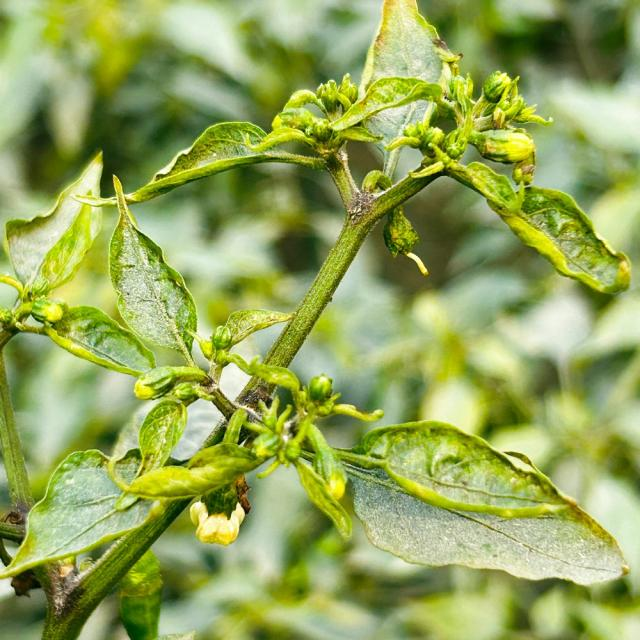Chilli_Leaf_Curl: (1, 2, 633, 636), (338, 418, 630, 587), (0, 447, 160, 581), (105, 174, 199, 365), (3, 149, 105, 305), (492, 183, 632, 296)
